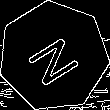N_NE: (22, 26, 86, 87)
